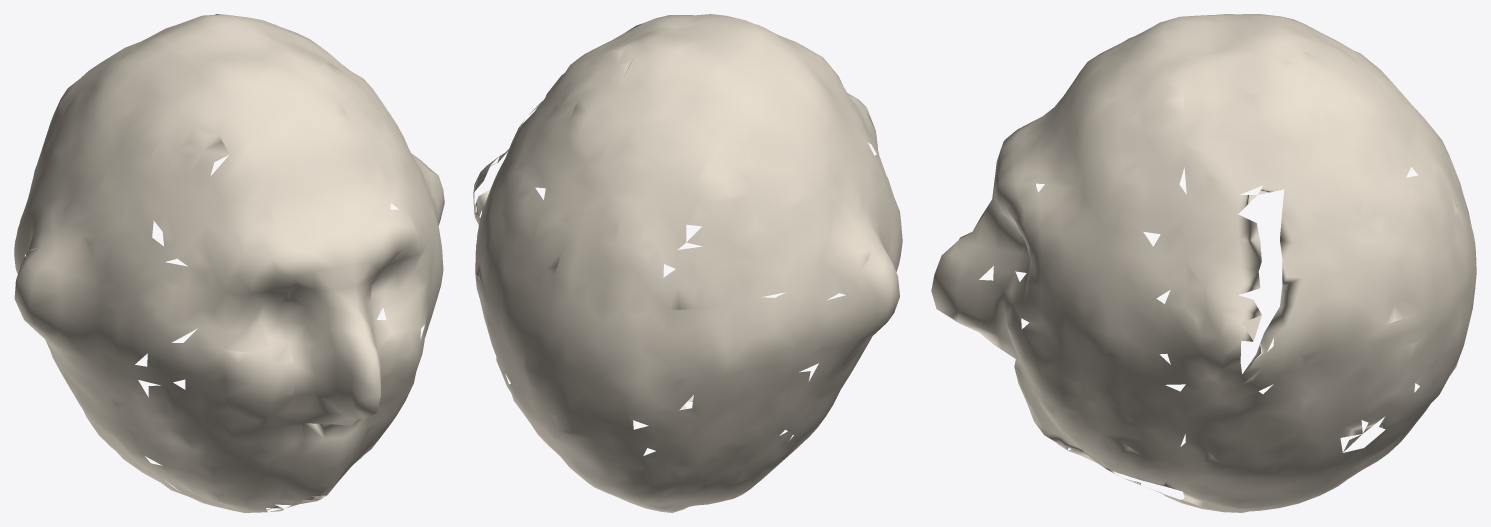
The model's file is SM_HelenKellerBust_LOD2.glb.
The picture shows the model from 3 angles, left to right: view 1: azimuth 30°, elevation 25°; view 2: azimuth 150°, elevation 25°; view 3: azimuth 270°, elevation 25°; orthographic projection. The views are drawn at different scales.
Parts seen in each view (by area): view 1: SM_HelenKellerBust_LOD2; view 2: SM_HelenKellerBust_LOD2; view 3: SM_HelenKellerBust_LOD2.
Part boxes in pixels (left/top/right/bottom): SM_HelenKellerBust_LOD2: left=14, top=14, right=444, bottom=512; SM_HelenKellerBust_LOD2: left=473, top=14, right=902, bottom=512; SM_HelenKellerBust_LOD2: left=931, top=14, right=1476, bottom=512.
Bounding box in the file's own units: 0.5017 × 0.5279 × 0.5522.
